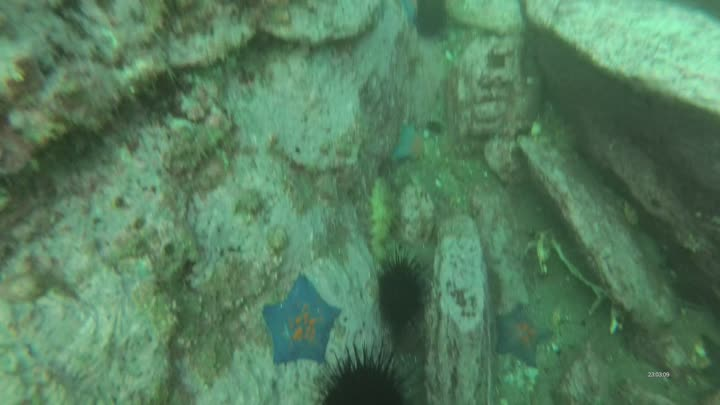echinus: (313, 340, 423, 405), (377, 242, 434, 336), (414, 1, 453, 40)
holothurian: (367, 174, 402, 254)
starfish: (261, 270, 345, 366), (494, 303, 557, 371)
